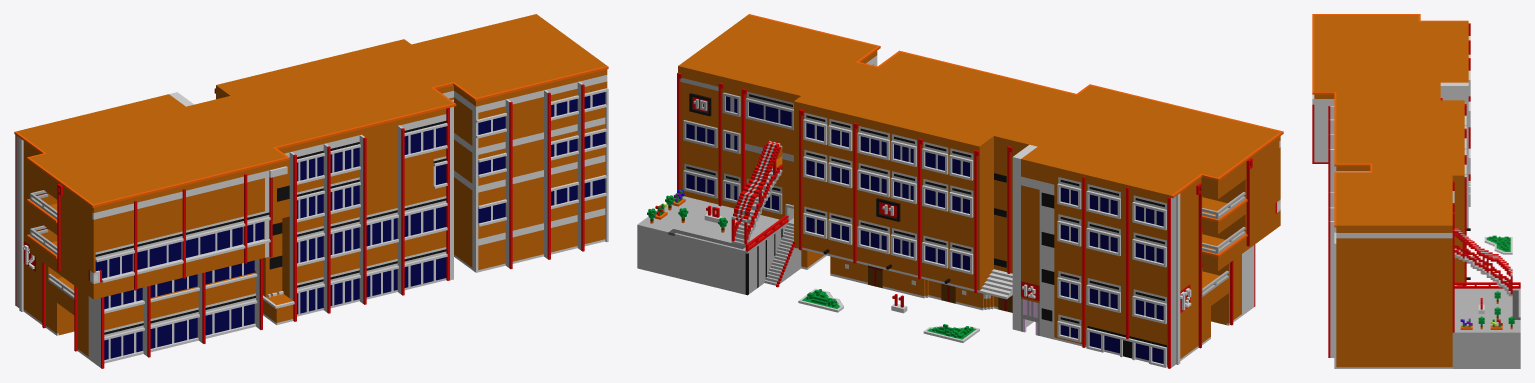
Rendered from bloque_10_textura_embed.fbx.
3 views of the same model, side by side, from view 1: azimuth 30°, elevation 25°; view 2: azimuth 150°, elevation 25°; view 3: azimuth 270°, elevation 25° (orthographic). The views are drawn at different scales.
Visible parts, largest first — view 1: Bloque10; view 2: Bloque10; view 3: Bloque10.
Part boxes in pixels (x1,y1,x2,y2): Bloque10: [14, 14, 608, 368]; Bloque10: [637, 14, 1283, 368]; Bloque10: [1312, 14, 1520, 368].
Size of the model in its own units: 2500 by 790 by 1040.
Materials: 1 (1 with a texture image).
